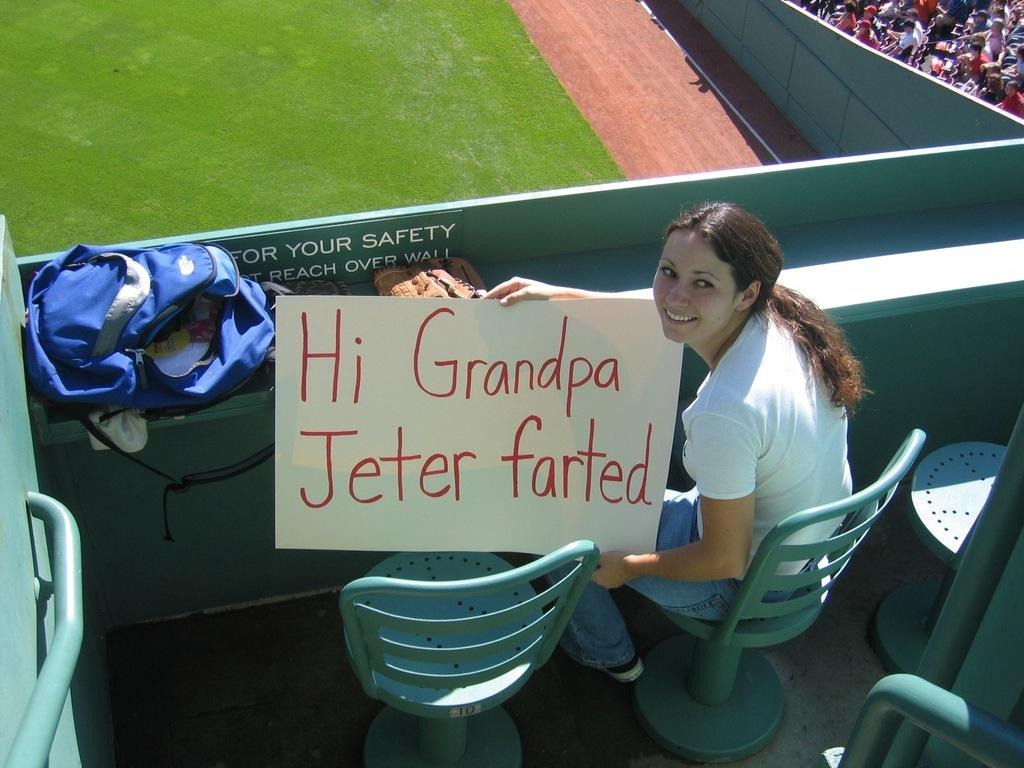Luggage-and-bags: (14, 232, 290, 529), (374, 257, 489, 301), (285, 280, 350, 298)
